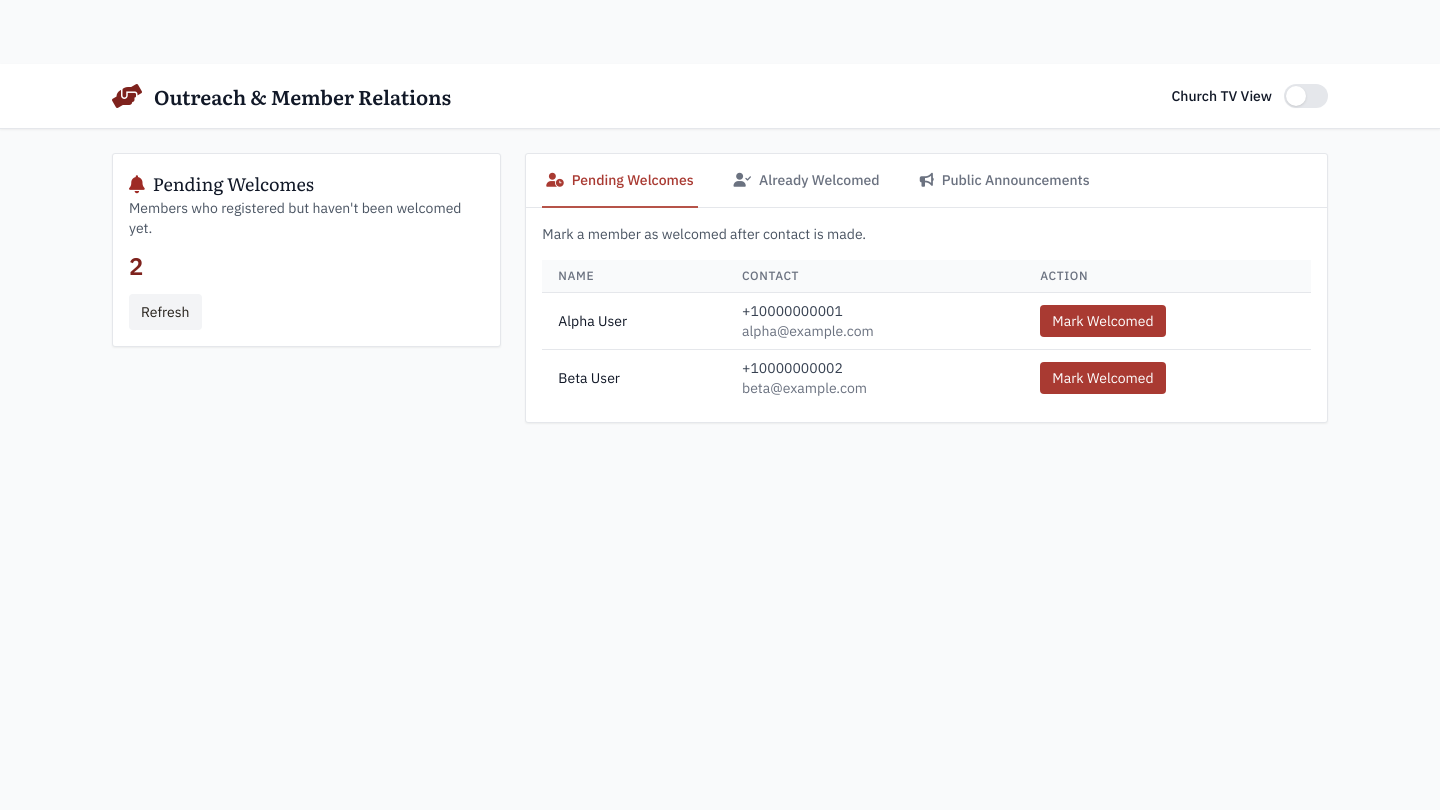
Test: OutreachDashboard › supports toggling to Church TV View
Check: the heading "Pending Welcomes" is shown, box [129, 170, 314, 197]
Check: the text "Alpha User" is shown, box [542, 292, 726, 350]
# Find and click Church TV View toggle
Click the switch named "Church TV View".
click(1306, 96)  # box [1284, 84, 1328, 108]
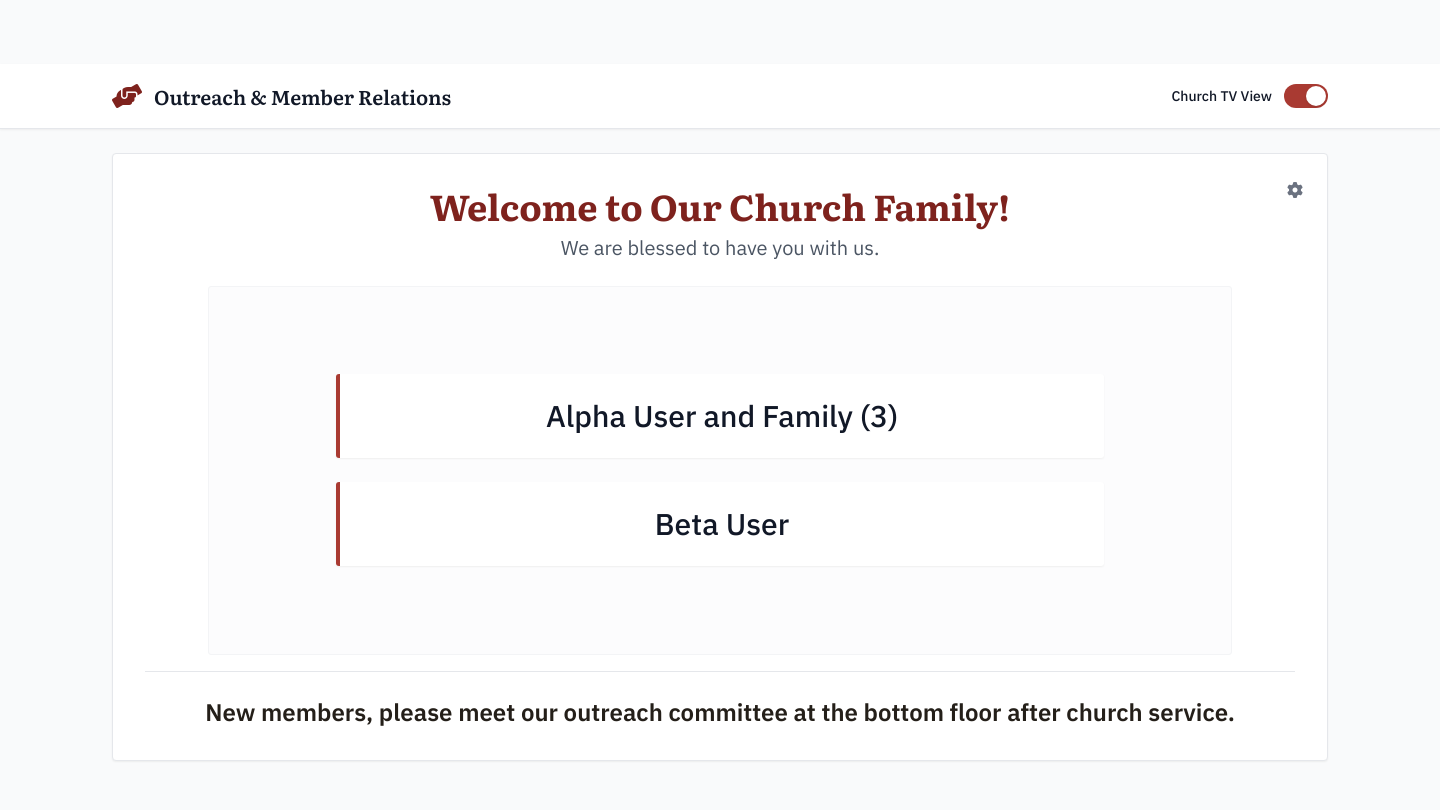
Check: the heading "Welcome to Our Church Family!" is shown, box [430, 179, 1010, 232]
Check: the text "Alpha User and Family (3)" is shown, box [546, 398, 898, 434]
Check: the text "New members, please meet our outreach committee at the bottom floor" is shown, box [205, 696, 1235, 728]
